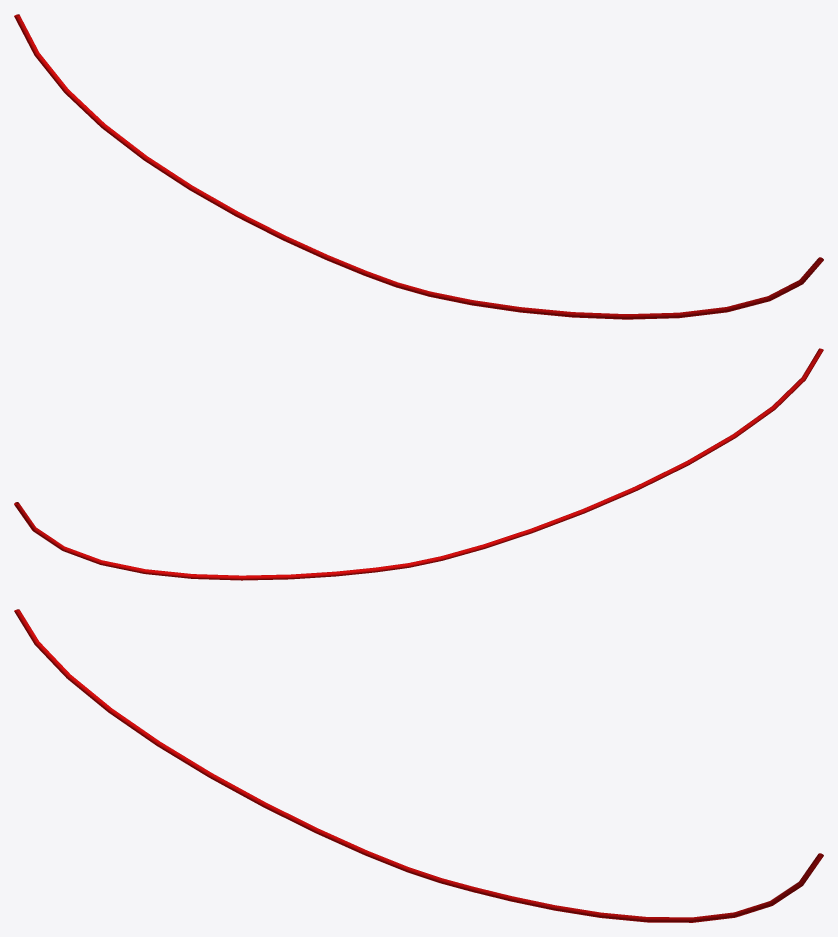
Rendered from Attic_Cable_01_LP_Splines_19.glb.
3 renders of one model, top to bottom at view 1: azimuth 90°, elevation 25°; view 2: azimuth 150°, elevation 25°; view 3: azimuth 270°, elevation 25°, orthographic. The views are drawn at different scales.
Parts seen in each view (by area): view 1: Attic_Cable_01_LP_Splines_19; view 2: Attic_Cable_01_LP_Splines_19; view 3: Attic_Cable_01_LP_Splines_19.
Part boxes in pixels (<box>): Attic_Cable_01_LP_Splines_19: <box>14,14,823,319</box>; Attic_Cable_01_LP_Splines_19: <box>14,348,823,580</box>; Attic_Cable_01_LP_Splines_19: <box>14,609,823,922</box>.
Size of the model in its own units: 2.21 by 0.6333 by 3.07.
